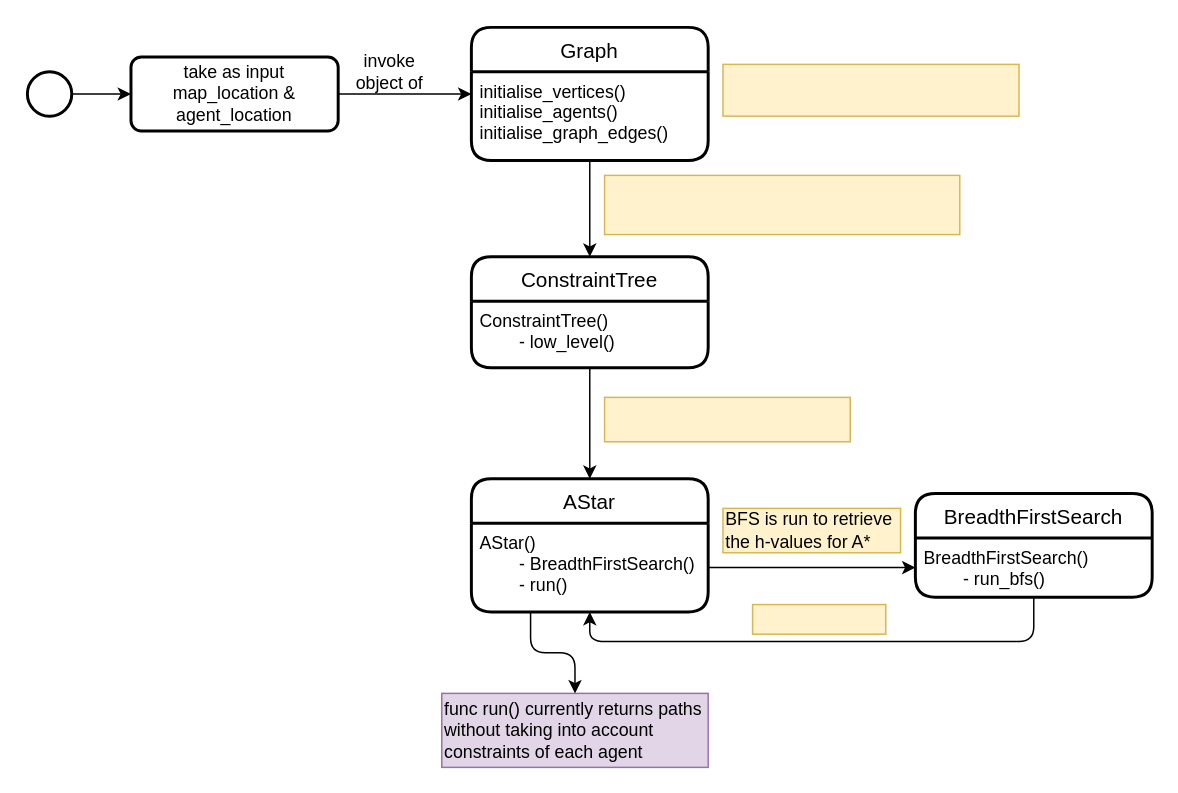
Some shapes in this 1178 by 793 pixel diagram are drawn without their labels. The shapes that lost their labels are listed below. From the top down, each one's centre as x and y in pixels, then its label:
At (870,89): "Here the graph is initialised i.e. the vertices, agents and edges are set".
At (781,204): "Next, the Constraint Tree is invoked. ConstraintTree() runs function low_level()".
At (726,419): "func low_level() calls AStar to get the paths of each agent".
At (818,618): "return h-values".
